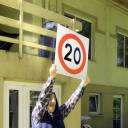speed_limit_20: (58, 30, 89, 78)
